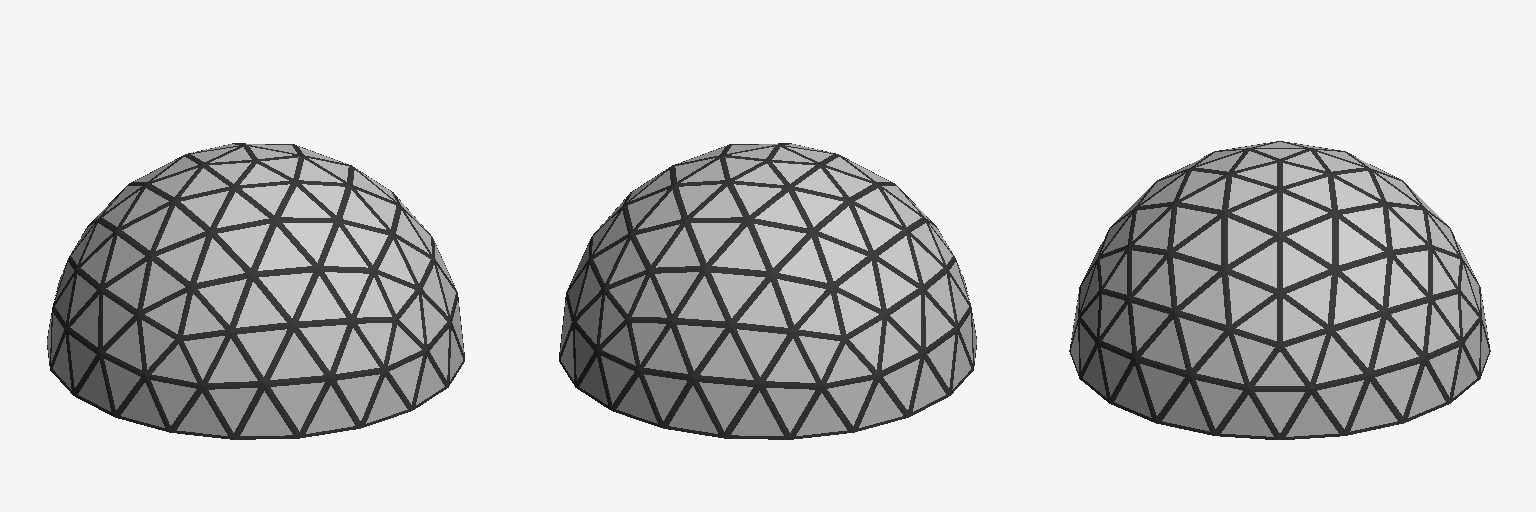
Rendered from growhouse.obj.
The picture shows the model from 3 angles: view 1: azimuth 30°, elevation 25°; view 2: azimuth 150°, elevation 25°; view 3: azimuth 270°, elevation 25°; orthographic projection.
Parts seen in each view (by area): view 1: Icosphere, Icosphere.001; view 2: Icosphere, Icosphere.001; view 3: Icosphere, Icosphere.001.
Boxes of the visible parts, box(x1,y1,x2,y2) form: Icosphere: box(47, 144, 463, 435); Icosphere.001: box(47, 143, 464, 439); Icosphere: box(560, 144, 976, 435); Icosphere.001: box(559, 143, 976, 439); Icosphere: box(1071, 142, 1488, 436); Icosphere.001: box(1069, 141, 1490, 439).
Bounding box in the file's own units: 10.02 × 5.01 × 10.02.